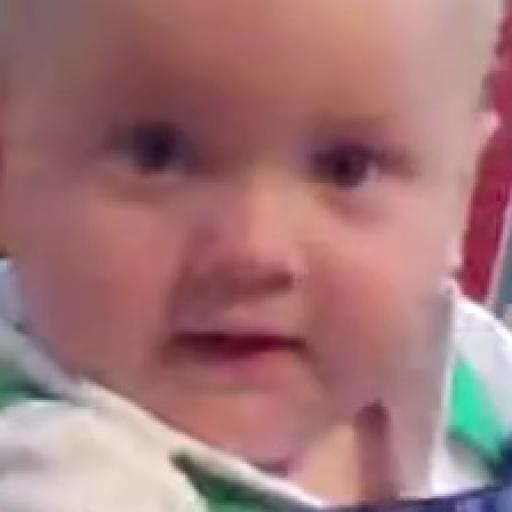Autism: (16, 11, 512, 448)
